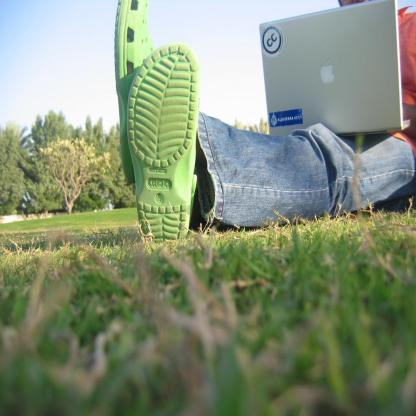board: (259, 0, 411, 135)
